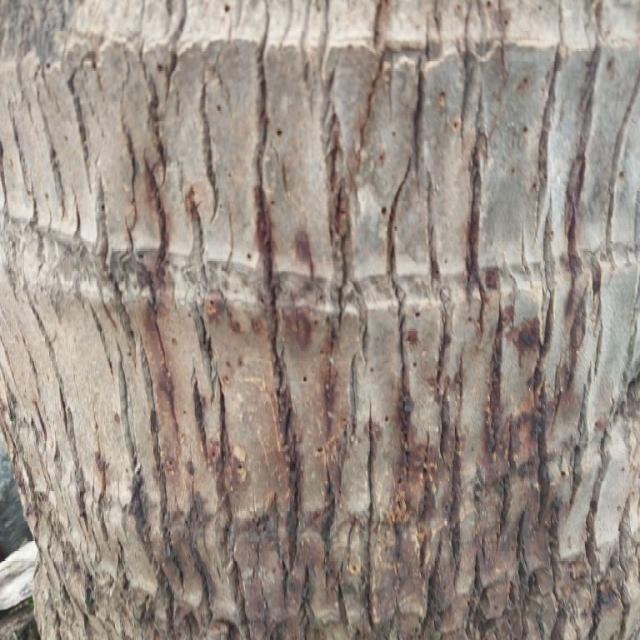stembleeding: (124, 194, 605, 628)
